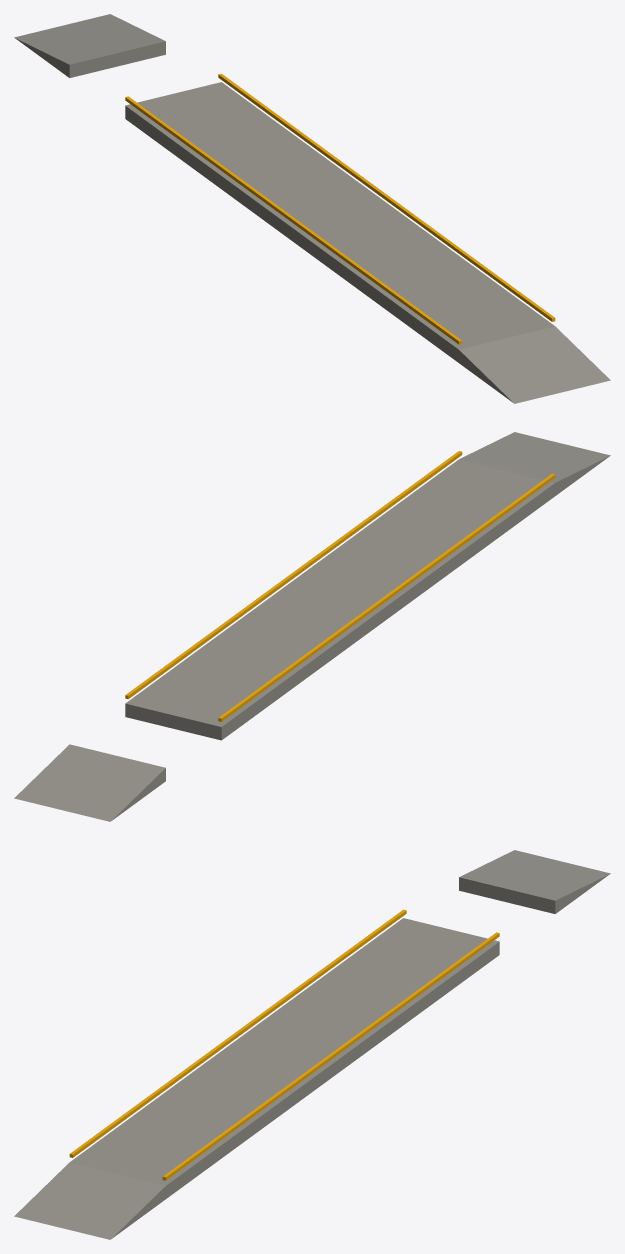
Rendered from industrial.handling.weighbridge.glb.
3 views of the same model, one above another, from view 1: azimuth 30°, elevation 25°; view 2: azimuth 150°, elevation 25°; view 3: azimuth 330°, elevation 25° (orthographic).
Parts seen in each view (by area): view 1: main__concrete, main__plant_yellow; view 2: main__concrete, main__plant_yellow; view 3: main__concrete, main__plant_yellow.
Boxes of the visible parts, <box> form: main__concrete: <box>14,14,610,403</box>; main__plant_yellow: <box>125,73,555,344</box>; main__concrete: <box>14,432,610,821</box>; main__plant_yellow: <box>125,451,555,721</box>; main__concrete: <box>14,850,610,1239</box>; main__plant_yellow: <box>69,909,499,1180</box>.
Bounding box in the file's own units: 3 × 0.65 × 27.
